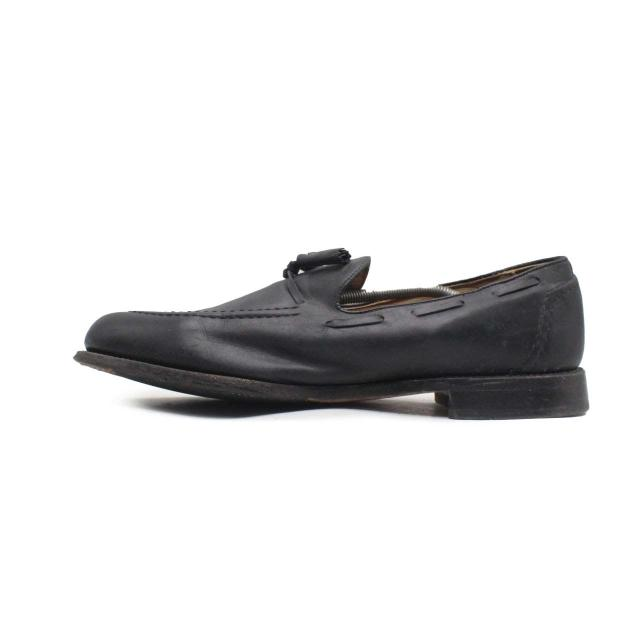heel: (508, 258, 586, 380)
midsole: (71, 348, 588, 417)
uppersole: (83, 249, 509, 380)
